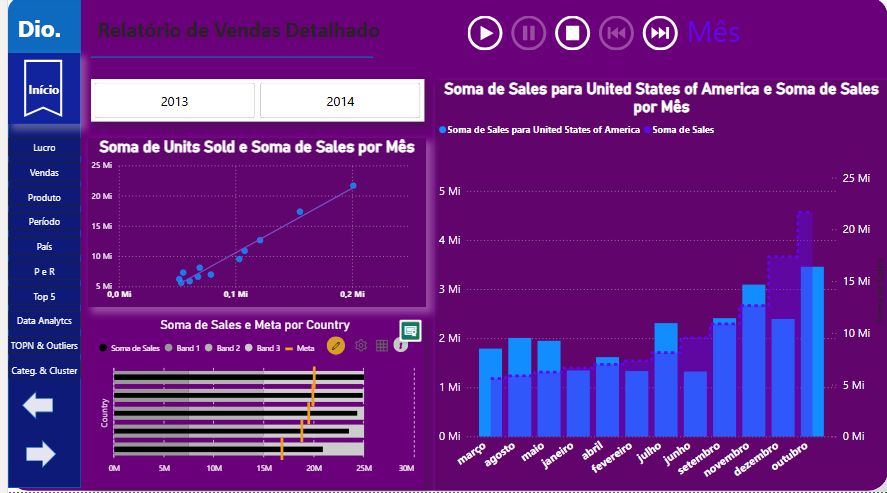

Layout of this report page (visuals, bound fields, positions):
{"tool":"powerbi","page":{"name":"País","canvas":[1280,720],"ordinal":5},"visuals":[{"type":"shape","box":[0,0,106.3,714.1],"z":0,"group":"g4"},{"type":"shape","title":"Fundo","box":[0,0,1280,719],"z":0},{"type":"shape","box":[106.5,0,1173.5,83.3],"z":0,"group":"g1"},{"type":"shape","box":[108.8,138.1,410.6,13.5],"z":0,"group":"g2"},{"type":"shape","box":[111.3,148.3,434.9,74.2],"z":0,"group":"g3"},{"type":"shape","box":[0,0,106,82.6],"z":1000,"group":"g4"},{"type":"group","id":"g1","title":"Título","box":[106.5,0,1173.5,83.3],"z":1000},{"type":"textbox","box":[113.4,16.2,393.5,67.1],"z":1000,"group":"g1"},{"type":"textbox","box":[113.7,96.4,454.9,57.8],"z":1000,"group":"g2"},{"type":"advancedSlicerVisual","fields":{"Values":["financials.Date.Variation.Hierarquia de datas.Ano"]},"box":[125.1,154.8,410.1,61.3],"z":1000,"group":"g3"},{"type":"textbox","title":"Logo Dio","box":[9.2,22,89.7,53.1],"z":2000,"group":"g4"},{"type":"group","id":"g2","title":"Subtítulo","box":[108.8,96.4,459.8,57.8],"z":2000},{"type":"group","id":"g3","title":"Ano","box":[111.3,148.3,434.9,74.2],"z":3000},{"type":"group","id":"g4","title":"Dio","box":[0,0,106.3,714.1],"z":4000},{"type":"card","fields":{"Values":["Sum(financials.Units Sold)"]},"box":[549,148.5,245.3,72.6],"z":5000,"group":"g5"},{"type":"shape","title":"9 Forma","box":[25.8,643.8,43.9,40.9],"z":5000},{"type":"card","fields":{"Values":["Sum(financials.Profit)"]},"box":[1037.9,149.4,235.3,72.6],"z":6000,"group":"g5"},{"type":"shape","title":"9 Forma","box":[20.6,573,45.3,41.2],"z":6000},{"type":"sankey02300D1BE6F5427989F3DE31CCA9E0F32020","fields":{"Source":["financials.Country"],"Destination":["financials.Segment"],"Weight":["Sum(financials.Sales)"]},"box":[111.8,233.6,1161.5,482.3],"z":7000},{"type":"group","id":"g5","title":"Grupo 1","box":[549,148.5,724.3,71.8],"z":8000},{"type":"card","fields":{"Values":["Sum(financials.Sales)"]},"box":[796,148.5,238.7,72.6],"z":8000,"group":"g5"},{"type":"actionButton","box":[0,82,104.6,102.9],"z":9000},{"type":"pageNavigator","box":[0,205.8,106.4,359.2],"z":10000}]}

Visuals, with their boxes on the page's 1280x720 design canvas (x1, y1, x2, y2). These are canvas units, not pixel positions in the 887x493 screenshot, which may show the page scaled, cropped or inside an application window:
shape: 0:0:106:714
"Fundo" shape: 0:0:1280:719
shape: 106:0:1280:83
shape: 109:138:519:152
shape: 111:148:546:222
shape: 0:0:106:83
"Título" group: 106:0:1280:83
textbox: 113:16:507:83
textbox: 114:96:569:154
advancedSlicerVisual - financials.Date.Variation.Hierarquia de datas.Ano: 125:155:535:216
"Logo Dio" textbox: 9:22:99:75
"Subtítulo" group: 109:96:569:154
"Ano" group: 111:148:546:222
"Dio" group: 0:0:106:714
card - Sum(financials.Units Sold): 549:148:794:221
"9 Forma" shape: 26:644:70:685
card - Sum(financials.Profit): 1038:149:1273:222
"9 Forma" shape: 21:573:66:614
sankey02300D1BE6F5427989F3DE31CCA9E0F32020 - financials.Country x financials.Segment: 112:234:1273:716
"Grupo 1" group: 549:148:1273:220
card - Sum(financials.Sales): 796:148:1035:221
actionButton: 0:82:105:185
pageNavigator: 0:206:106:565
